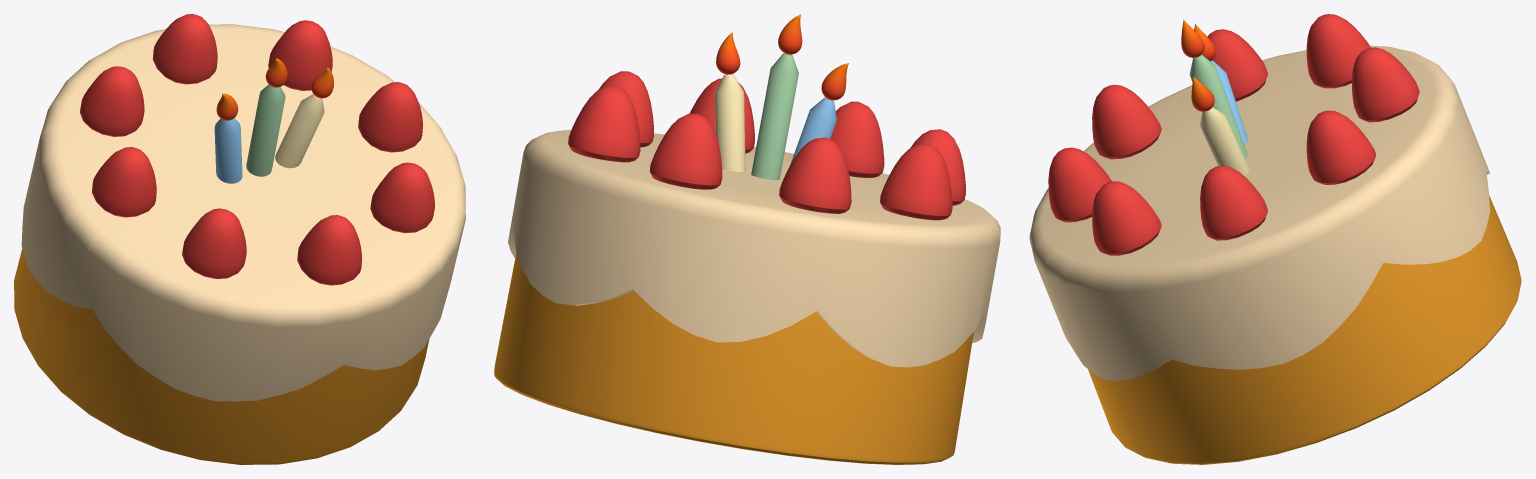
Rendered from birthday_cake.glb.
3 renders of one model, left to right at view 1: azimuth 30°, elevation 25°; view 2: azimuth 150°, elevation 25°; view 3: azimuth 270°, elevation 25°, orthographic. The views are drawn at different scales.
Parts seen in each view (by area): view 1: Circle.2254; view 2: Circle.2254; view 3: Circle.2254.
Boxes of the visible parts, <box> form: Circle.2254: <box>14,14,465,464</box>; Circle.2254: <box>494,14,1000,464</box>; Circle.2254: <box>1029,14,1521,464</box>.
Size of the model in its own units: 2.17 by 2.08 by 2.34.
1 material, 1 textured.
